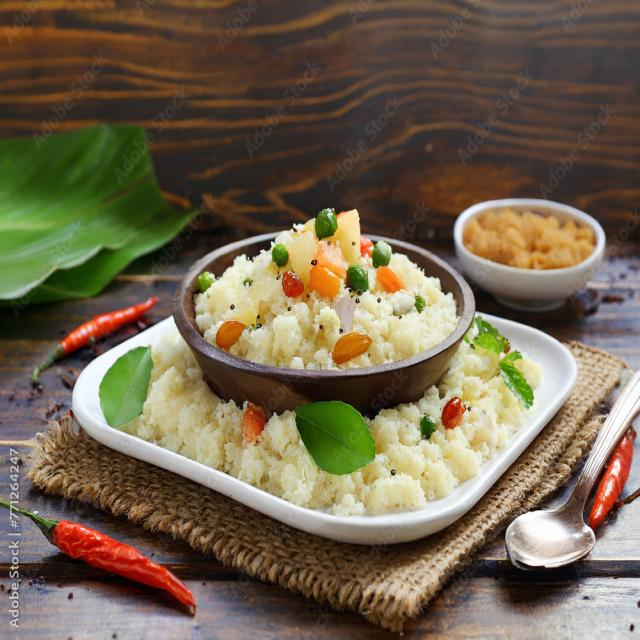UPMA: (195, 250, 458, 369)
